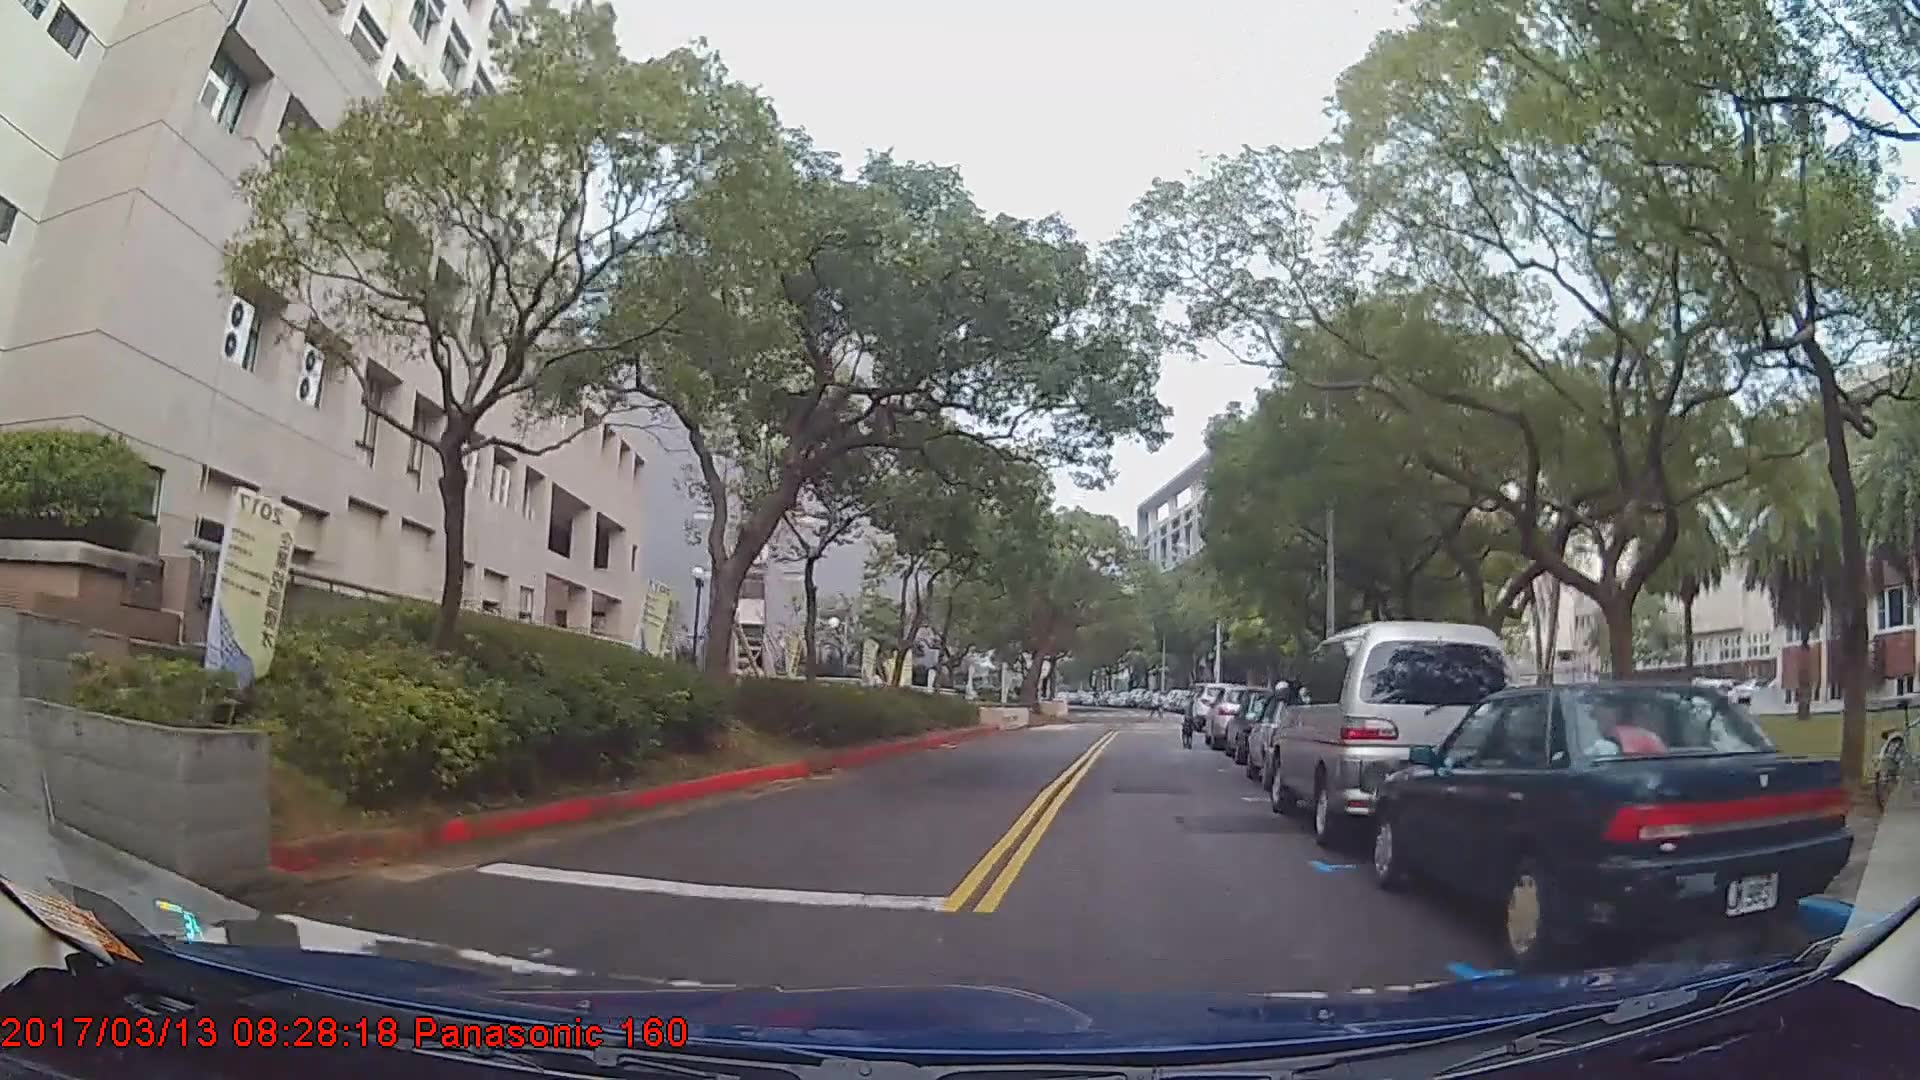vehicle: (1374, 676, 1854, 963), (1270, 618, 1520, 852)
